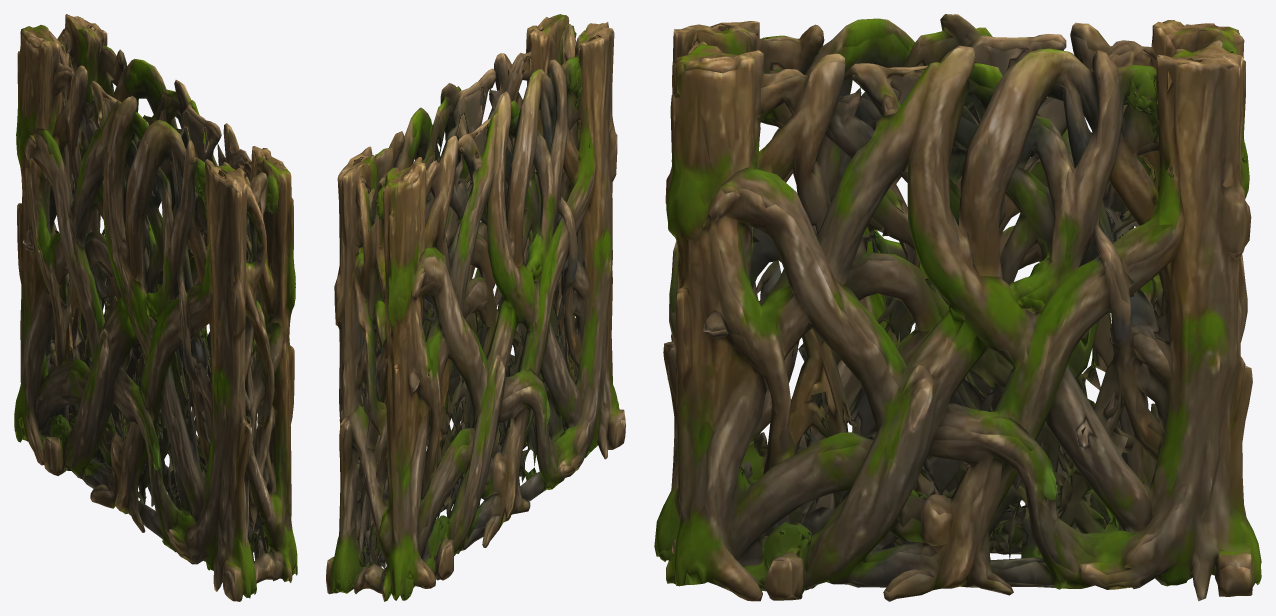
Rendered from ForestWall_RootBraid_A_UnrealReady.glb.
3 renders of one model, left to right at view 1: azimuth 30°, elevation 25°; view 2: azimuth 150°, elevation 25°; view 3: azimuth 270°, elevation 25°, orthographic. The views are drawn at different scales.
Visible parts, largest first — view 1: ForestWall_RootBraid_A_UnrealReady; view 2: ForestWall_RootBraid_A_UnrealReady; view 3: ForestWall_RootBraid_A_UnrealReady.
Boxes of the visible parts, left/top/right/bottom form: ForestWall_RootBraid_A_UnrealReady: left=14, top=14, right=297, bottom=601; ForestWall_RootBraid_A_UnrealReady: left=326, top=14, right=625, bottom=601; ForestWall_RootBraid_A_UnrealReady: left=654, top=14, right=1261, bottom=601.
Bounding box in the file's own units: 1.2 × 6 × 6.
Materials: 1 (1 with a texture image).
